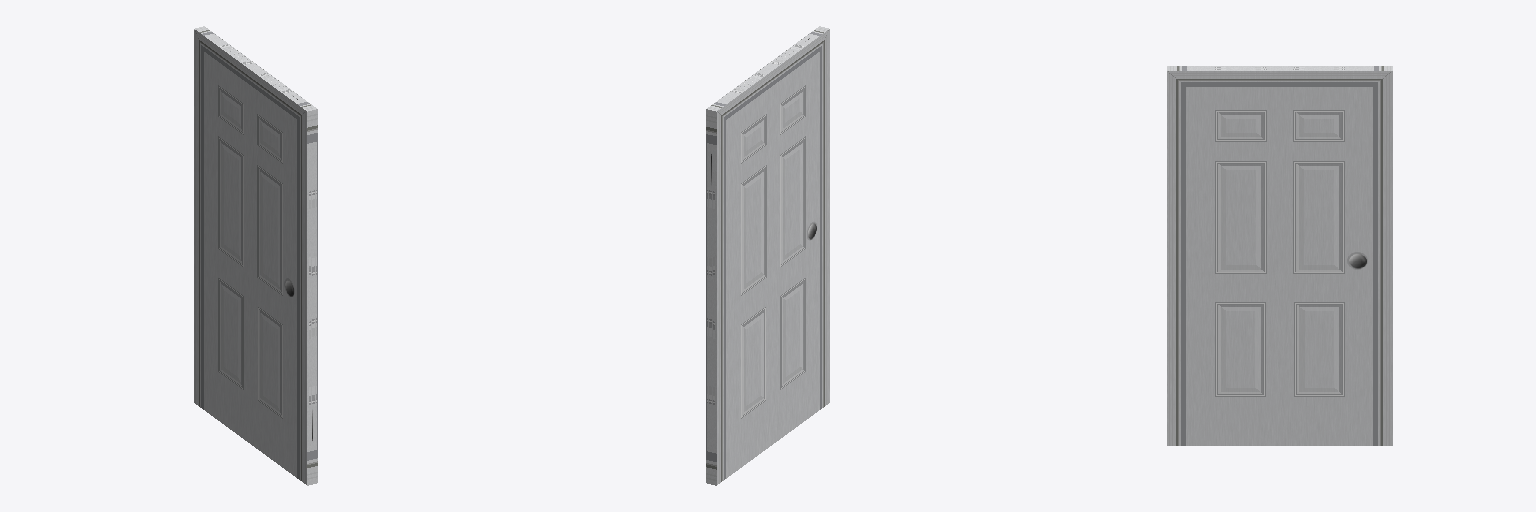
3 views of the same model, side by side, from view 1: azimuth 30°, elevation 25°; view 2: azimuth 150°, elevation 25°; view 3: azimuth 270°, elevation 25° (orthographic).
Parts seen in each view (by area): view 1: Box004; view 2: Box004; view 3: Box004.
Part boxes in pixels (bbox=[...]): Box004: bbox=[194, 26, 317, 485]; Box004: bbox=[706, 26, 829, 485]; Box004: bbox=[1167, 66, 1392, 445].
Size of the model in its own units: 2.56 by 87.27 by 47.88.
1 materials, 1 textured.